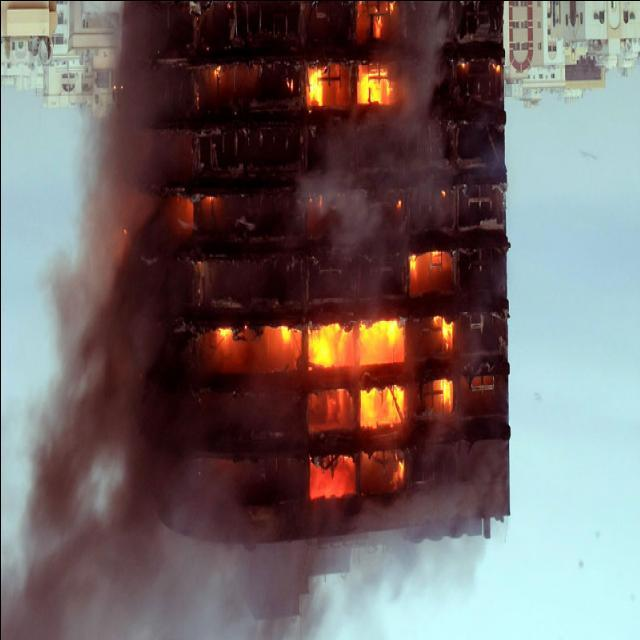Fire: (178, 46, 480, 502)
